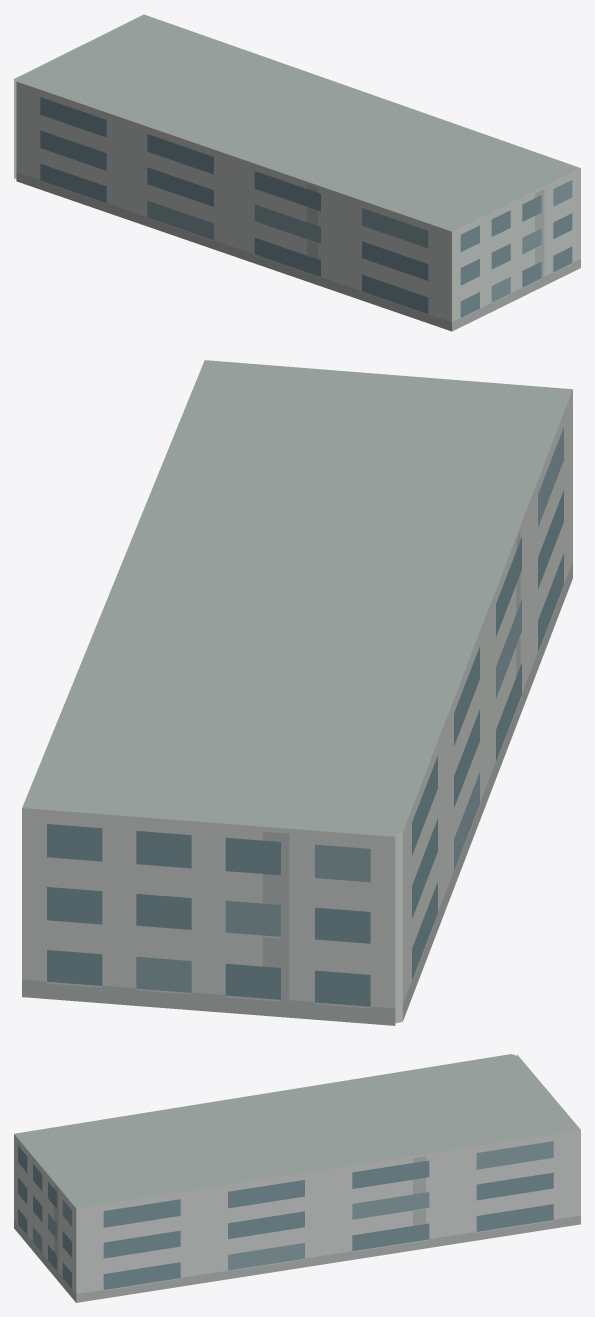
File: survey-upis-32854070.glb
The picture shows the model from 3 angles, top to bottom: view 1: azimuth 30°, elevation 25°; view 2: azimuth 150°, elevation 25°; view 3: azimuth 270°, elevation 25°; orthographic projection. The views are drawn at different scales.
Parts seen in each view (by area): view 1: survey-upis-32854070.tmp; view 2: survey-upis-32854070.tmp; view 3: survey-upis-32854070.tmp.
Part boxes in pixels (x1,y1,x2,y2): survey-upis-32854070.tmp: [14, 14, 580, 331]; survey-upis-32854070.tmp: [22, 360, 572, 1025]; survey-upis-32854070.tmp: [14, 1054, 580, 1302].
Bounding box in the file's own units: 32.08 × 9.15 × 49.76.
